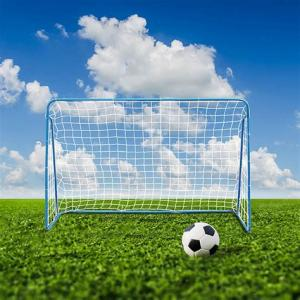Football: (182, 220, 219, 260)
